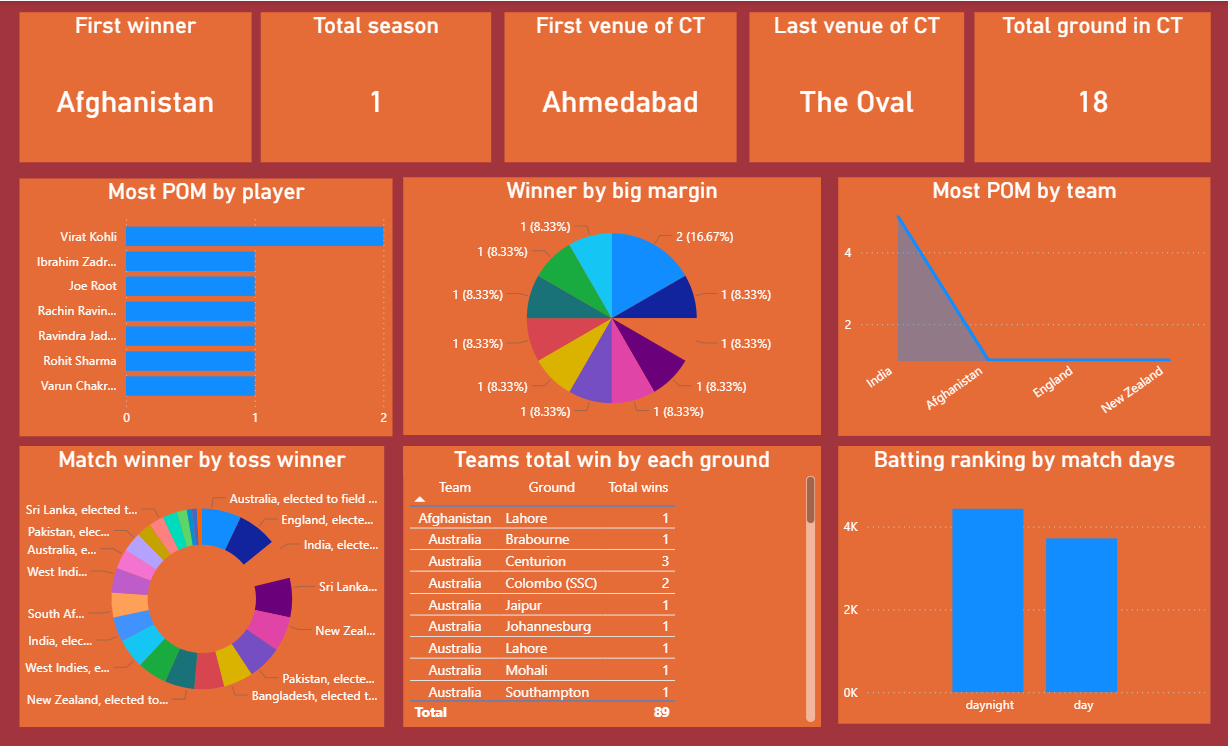

The page's visual inventory and layout, read from the dashboard file:
{"tool":"powerbi","page":{"name":"Page 2","canvas":[1280,720],"ordinal":1},"visuals":[{"type":"card","title":"First winner of CT","fields":{"Values":["Max(all_champions_trophy_matches_results-updated.Winner)"]},"box":[50.1,11.1,224,144.7],"z":0},{"type":"card","title":"Last venue of CT","fields":{"Values":["Max(all_champions_trophy_matches_results-updated.Ground)"]},"box":[755.5,11.1,207.3,144.7],"z":1000},{"type":"card","title":"First venue of CT","fields":{"Values":["Min(all_champions_trophy_matches_results-updated.Ground)"]},"box":[519,11.1,224,144.7],"z":2000},{"type":"card","title":"Total season","fields":{"Values":["Count(all_champions_trophy_players_list.Year)"]},"box":[283.8,11.1,222.6,144.7],"z":3000},{"type":"card","title":"Total ground in CT","fields":{"Values":["all_champions_trophy_matches_results-updated.Total ground"]},"box":[972.5,11.1,228.2,144.7],"z":4000},{"type":"pieChart","title":"Winner by big margin","fields":{"Category":["all_champions_trophy_matches_results-updated.Margin"],"Y":["CountNonNull(all_champions_trophy_matches_results-updated.Winner)"]},"box":[421,170.1,403,248.5],"z":5000},{"type":"barChart","title":"Most POM by player","fields":{"Category":["all_champions_trophy_players_list.Player Name"],"Y":["all_champions_trophy_matches_results-updated.Total POM"]},"box":[50.1,171.1,360.3,249],"z":6000},{"type":"clusteredColumnChart","title":"Batting ranking by  match days","fields":{"Category":["all_champions_trophy_matches_results-updated.Match days"],"Y":["Sum(all_champions_trophy_matches_results-updated.Team1 Avg Batting Ranking)"]},"box":[840.9,429.5,359.5,267.8],"z":7000},{"type":"tableEx","title":"Teams total win by each  ground","fields":{"Values":["all_champions_trophy_players_list.Team","all_champions_trophy_matches_results-updated.Ground","all_champions_trophy_matches_results-updated.Total wins"]},"box":[421,429.5,403,271.4],"z":8000},{"type":"donutChart","title":"Match winner by toss winner","fields":{"Category":["all_champions_trophy_matches_results-updated.Toss"],"Y":["CountNonNull(all_champions_trophy_matches_results-updated.Winner)"]},"box":[50.7,429.5,352.3,271.4],"z":10000},{"type":"stackedAreaChart","title":"Most POM by team","fields":{"Category":["all_champions_trophy_players_list.Team"],"Y":["all_champions_trophy_matches_results-updated.Total POM"]},"box":[840.9,170.1,359.5,249.7],"z":11000}]}

Visuals, with their boxes in screenshot pixels (x1, y1, x2, y2):
"First winner of CT" card: [16, 24, 244, 171]
"Last venue of CT" card: [733, 24, 944, 171]
"First venue of CT" card: [493, 24, 720, 171]
"Total season" card: [253, 24, 480, 171]
"Total ground in CT" card: [954, 24, 1186, 171]
"Winner by big margin" pieChart: [393, 186, 803, 438]
"Most POM by player" barChart: [16, 187, 382, 440]
"Batting ranking by  match days" clusteredColumnChart: [820, 450, 1186, 722]
"Teams total win by each  ground" tableEx: [393, 450, 803, 726]
"Match winner by toss winner" donutChart: [16, 450, 375, 726]
"Most POM by team" stackedAreaChart: [820, 186, 1186, 440]
